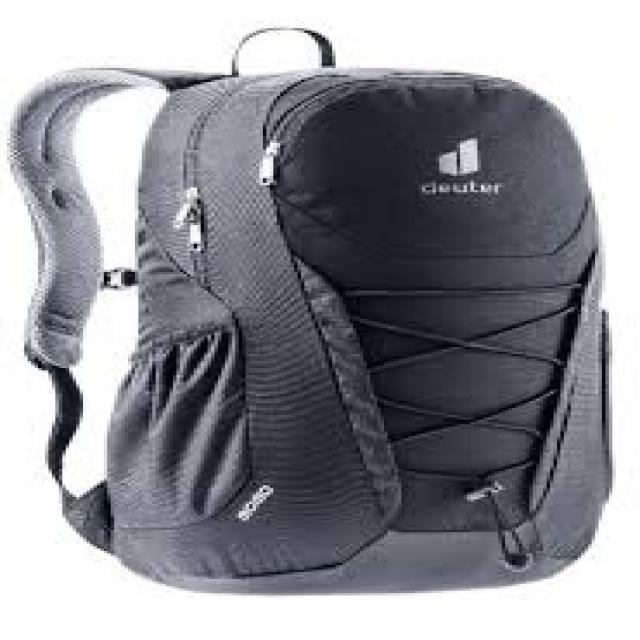backpack: (7, 26, 612, 593)
